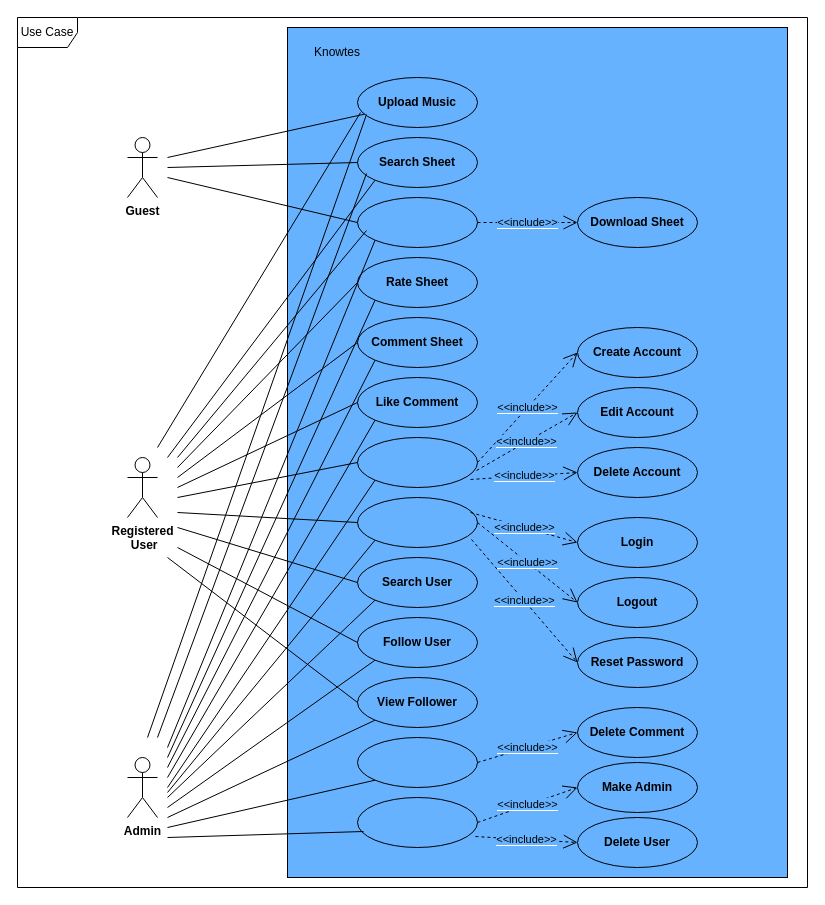
Image size: 825x905. Some labels were removed from this diagram. Here are the shapes that lost their labels. From the top down, the centre of each, then its label:
pixel 417 222: View Sheet
pixel 417 462: Manage Account
pixel 417 522: Authenticate
pixel 417 762: Moderate Content
pixel 417 822: Manage User Accounts
